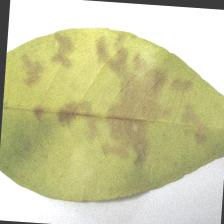canker: (21, 41, 175, 147)
